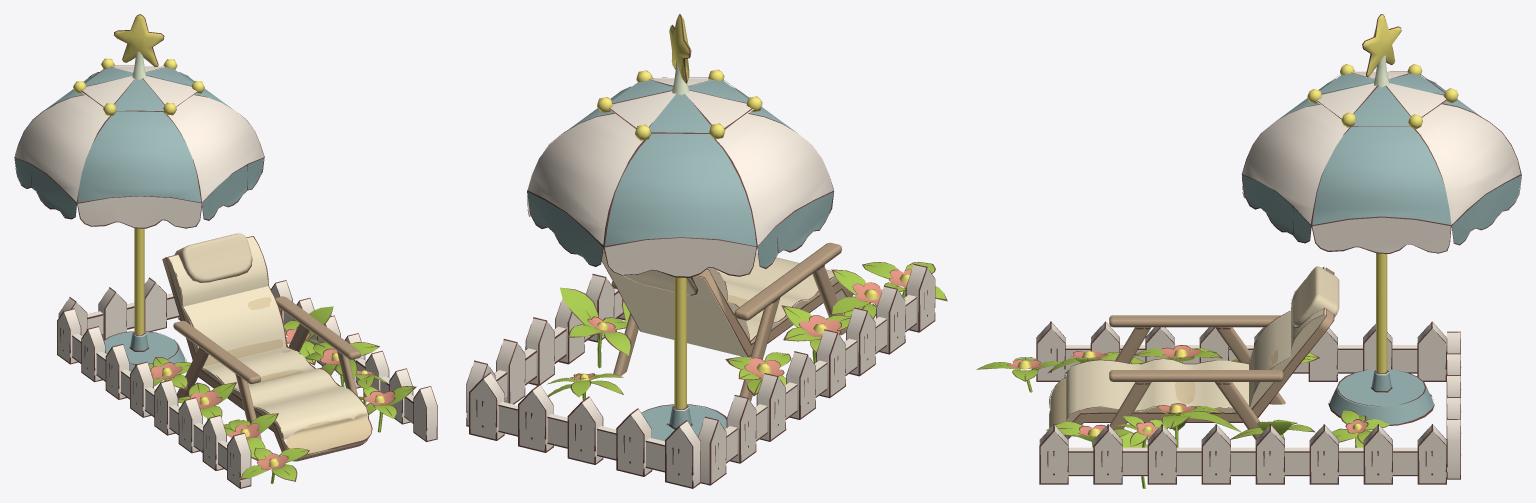
Rendered from Mesh_Home_B_Idyll_7_SM.FBX.
The picture shows the model from 3 angles, left to right: view 1: azimuth 30°, elevation 25°; view 2: azimuth 150°, elevation 25°; view 3: azimuth 270°, elevation 25°; orthographic projection. The views are drawn at different scales.
Parts seen in each view (by area): view 1: Mesh_Home_B_Idyll_7; view 2: Mesh_Home_B_Idyll_7; view 3: Mesh_Home_B_Idyll_7.
Boxes of the visible parts, bbox=[...] form: Mesh_Home_B_Idyll_7: bbox=[14, 14, 437, 488]; Mesh_Home_B_Idyll_7: bbox=[466, 14, 947, 488]; Mesh_Home_B_Idyll_7: bbox=[976, 14, 1521, 488].
Size of the model in its own units: 120 by 175 by 211.
1 material, 1 textured.
